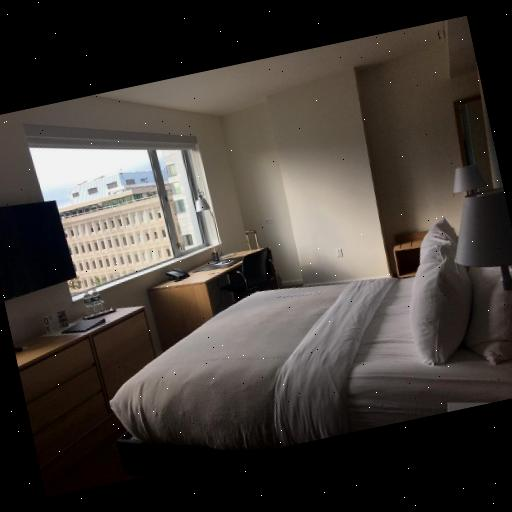chair: (218, 244, 283, 304)
clean_bed: (110, 190, 512, 458)
lamp: (439, 177, 512, 308), (440, 158, 486, 204)
organised_pillow: (413, 211, 512, 367)
organized table: (14, 305, 162, 457), (149, 233, 268, 340)
